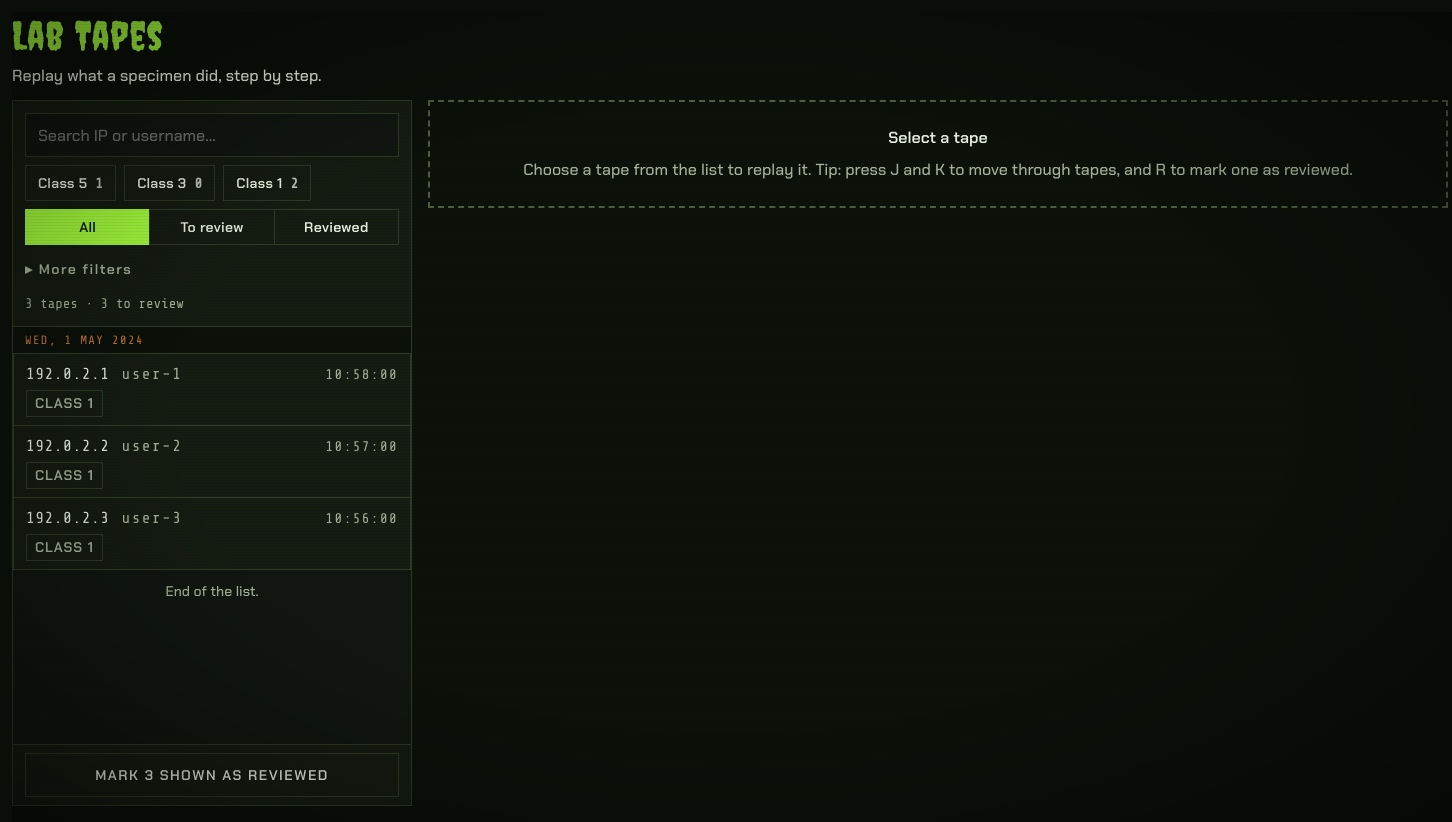
Test: Lab Tapes triage › shows counts on the severity filters and sends filters to the Brain
This screenshot has width=1452, height=822.
Later steps or results of the test are not shown.
Click the button "Class 51" at {"x": 71, "y": 183}, box x1=25 y1=165 x2=116 y2=201
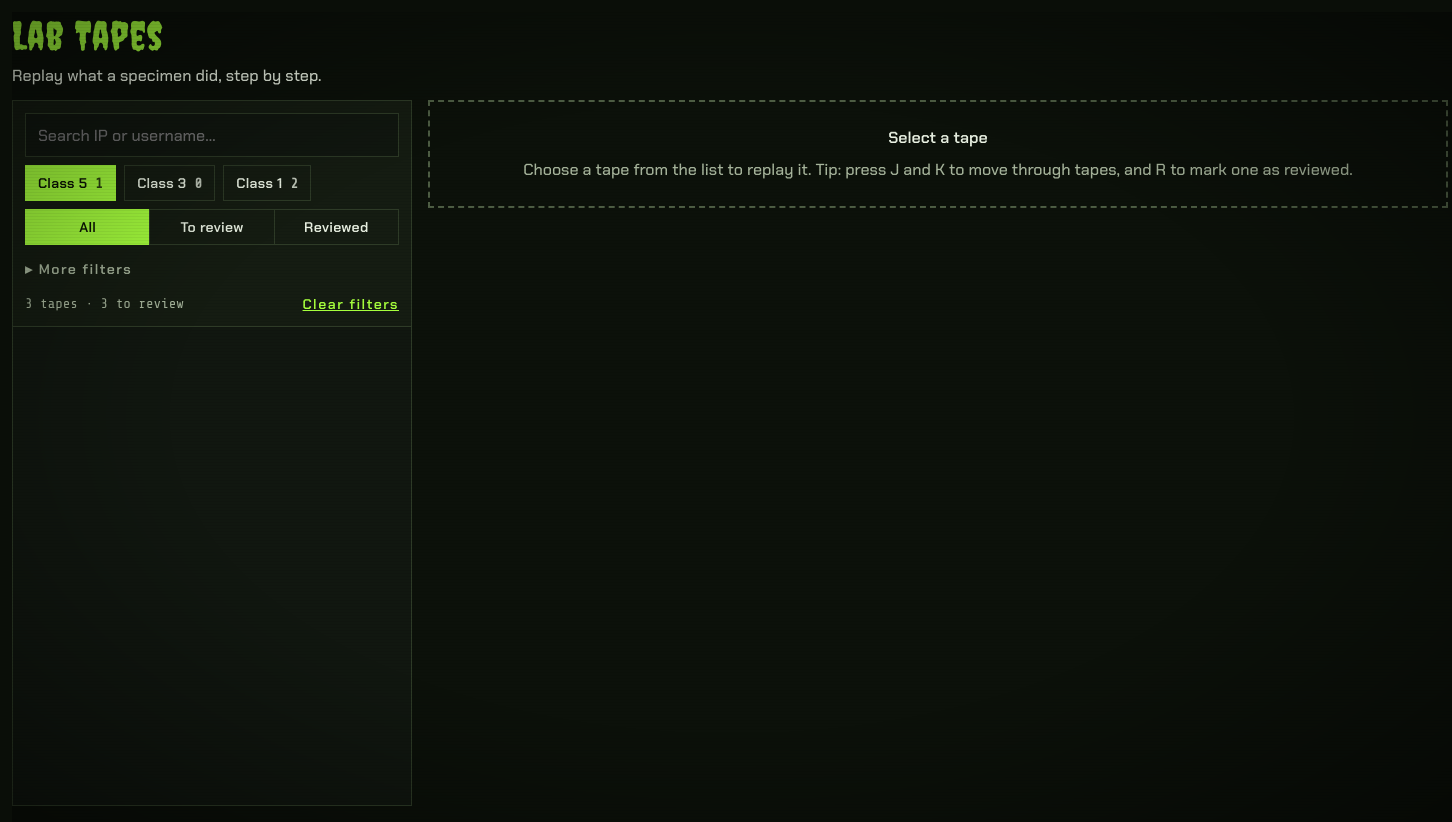
Now the button "Class 51" is pressed, box x1=25 y1=165 x2=116 y2=201
